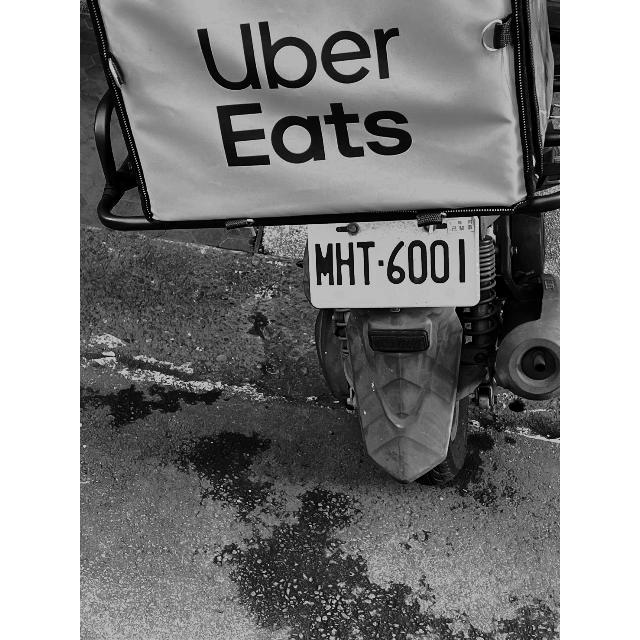-: (378, 258, 384, 268)
0: (430, 238, 452, 286), (408, 239, 428, 285)
1: (456, 238, 468, 286)
6: (387, 240, 407, 286)
H: (334, 241, 356, 287)
M: (314, 242, 334, 288)
T: (358, 240, 377, 288)
